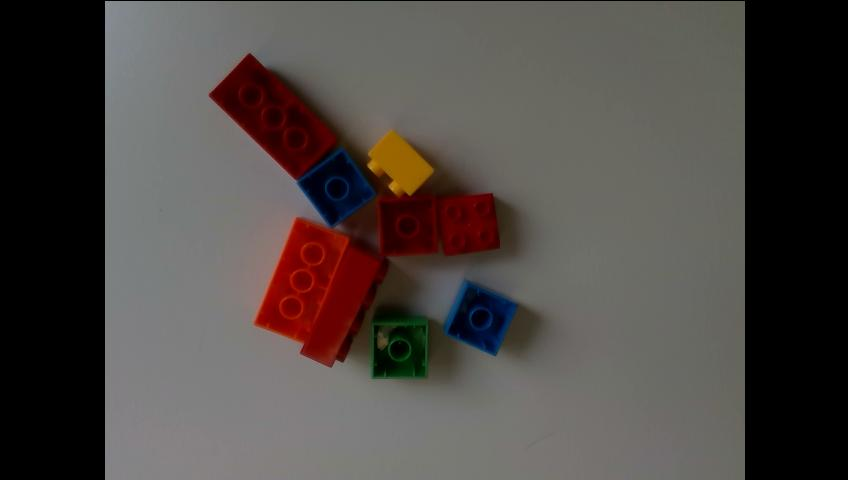2x2_blue: (293, 148, 376, 228), (440, 279, 519, 356)
2x2_green: (371, 314, 428, 379)
2x2_red: (433, 192, 499, 258), (377, 194, 436, 256)
2x2_yellow: (364, 127, 436, 198)
4x2_orange: (252, 212, 349, 342)
4x2_red: (203, 52, 336, 178), (296, 235, 388, 369)
